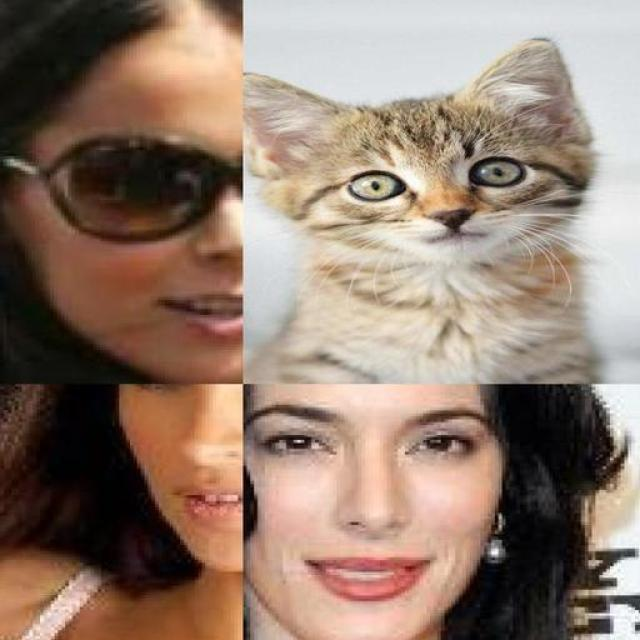bareface: (250, 392, 494, 636)
